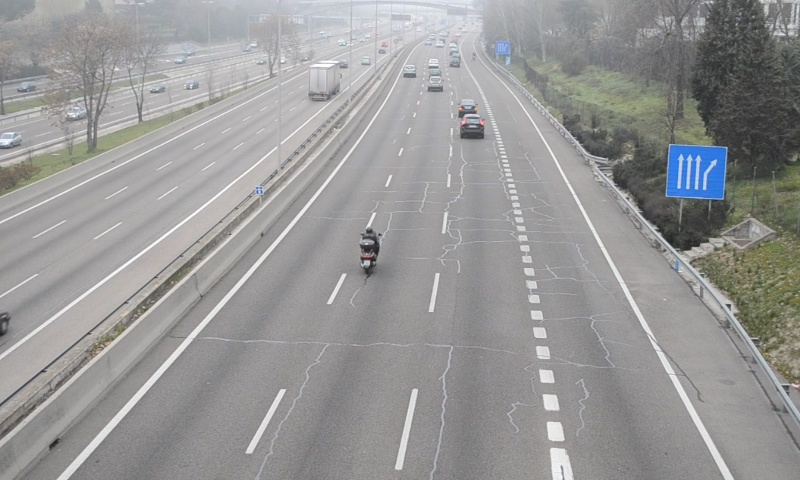car: (460, 114, 484, 137), (457, 98, 477, 116)
motorcycle: (358, 226, 382, 277)
